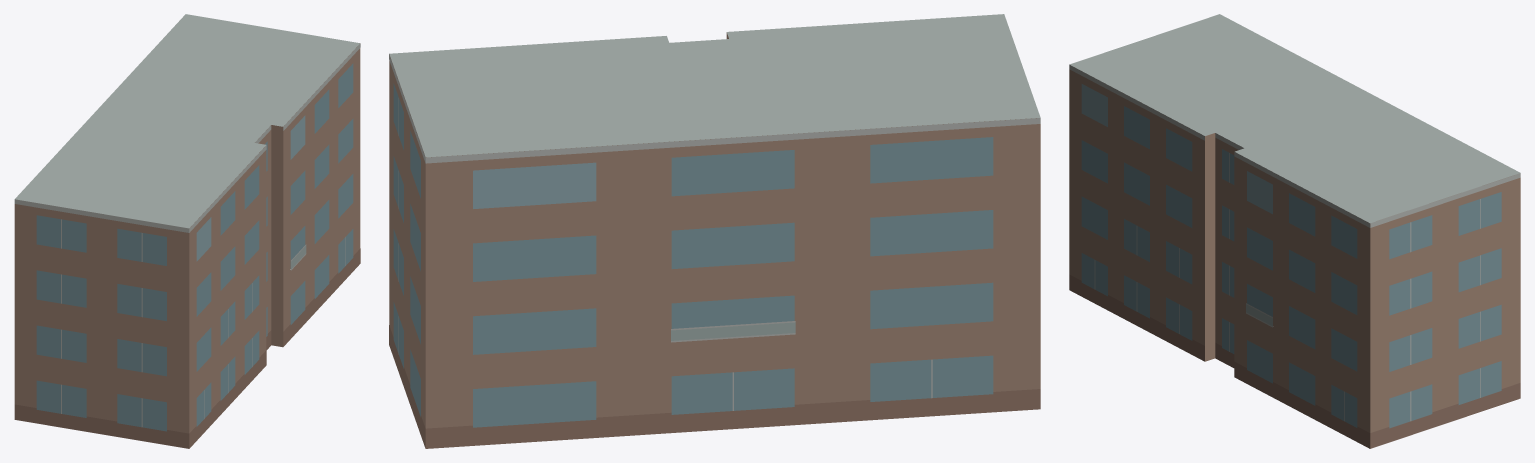
The model's file is survey-upis-33042074.glb.
3 renders of one model, left to right at view 1: azimuth 30°, elevation 25°; view 2: azimuth 150°, elevation 25°; view 3: azimuth 270°, elevation 25°, orthographic. The views are drawn at different scales.
Visible parts, largest first — view 1: survey-upis-33042074.tmp; view 2: survey-upis-33042074.tmp; view 3: survey-upis-33042074.tmp.
Part boxes in pixels (x1,y1,x2,y2): survey-upis-33042074.tmp: (14,14,360,448); survey-upis-33042074.tmp: (389,14,1040,448); survey-upis-33042074.tmp: (1069,14,1520,448).
Bounding box in the file's own units: 23.3 × 11.7 × 21.23.
